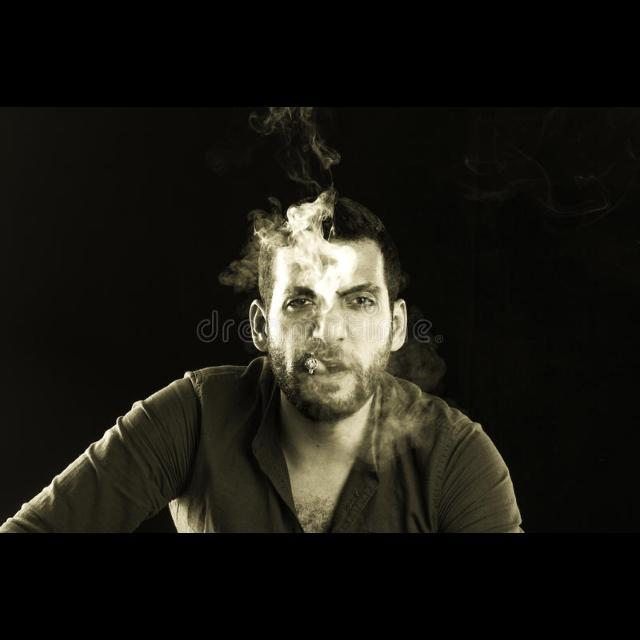rokok: (302, 354, 328, 374)
